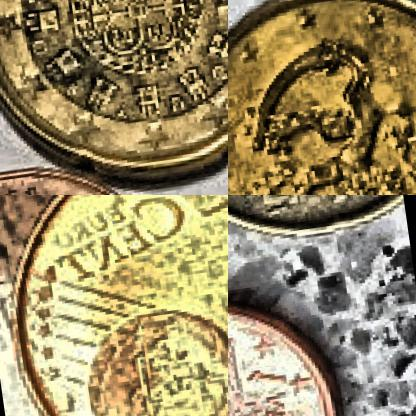coin: (0, 195, 227, 415), (0, 0, 227, 194), (228, 0, 415, 194), (228, 280, 359, 415)
